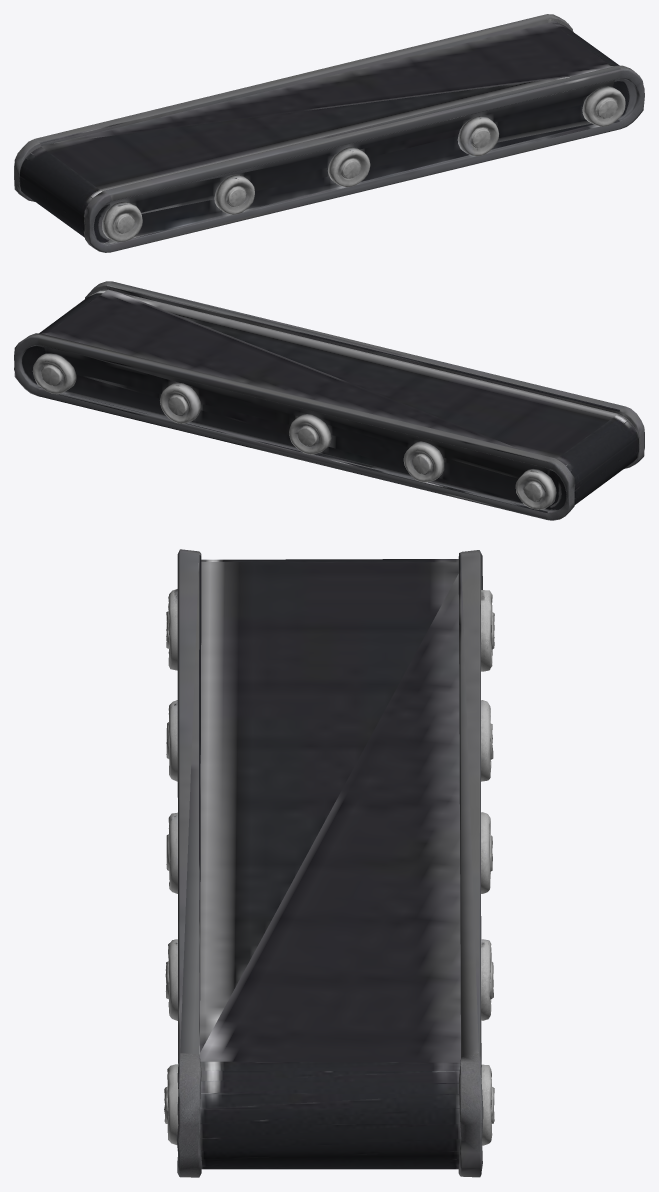
The model's file is s2_r5c2_long_straight_conveyor.glb.
3 views of the same model, one above another, from view 1: azimuth 30°, elevation 25°; view 2: azimuth 150°, elevation 25°; view 3: azimuth 270°, elevation 25° (orthographic). The views are drawn at different scales.
Bounding box in the file's own units: 1 × 0.1046 × 0.2584.
1 material, 1 textured.
